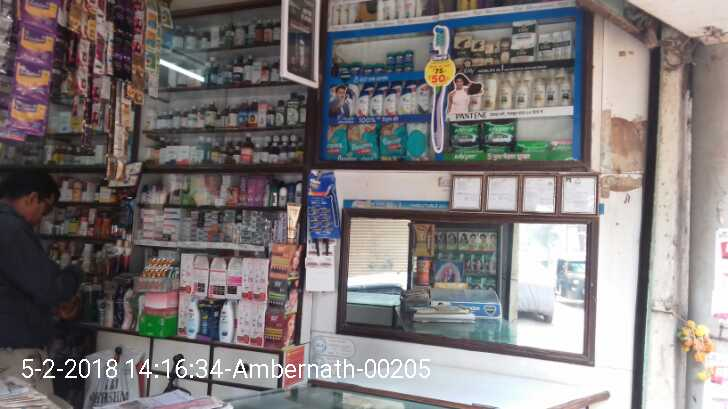beauty: (506, 36, 538, 64), (450, 33, 473, 70), (535, 29, 551, 63), (479, 80, 497, 110), (527, 77, 546, 105), (551, 30, 568, 61), (555, 83, 575, 106), (398, 85, 414, 113), (470, 40, 486, 68), (413, 82, 428, 111), (381, 87, 395, 117), (367, 89, 382, 115), (509, 19, 535, 34), (355, 91, 369, 118), (515, 79, 528, 107), (499, 81, 512, 108), (547, 77, 557, 106)
pharmacy: (349, 125, 379, 160), (323, 121, 350, 158), (379, 123, 406, 159), (480, 122, 519, 144), (452, 123, 479, 146), (347, 58, 362, 77), (337, 62, 347, 76), (403, 51, 414, 62), (393, 51, 403, 63), (386, 52, 394, 66), (373, 63, 384, 73), (363, 62, 372, 74), (267, 61, 268, 65), (338, 62, 339, 63)
